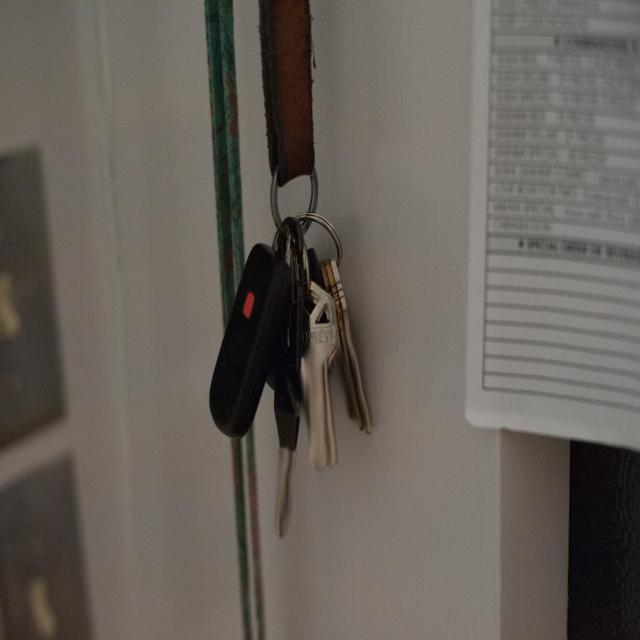Frontdoor keys: (294, 282, 348, 476)
